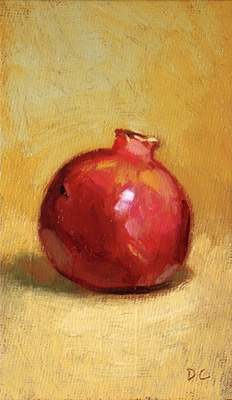pomogranate: (36, 128, 192, 292)
